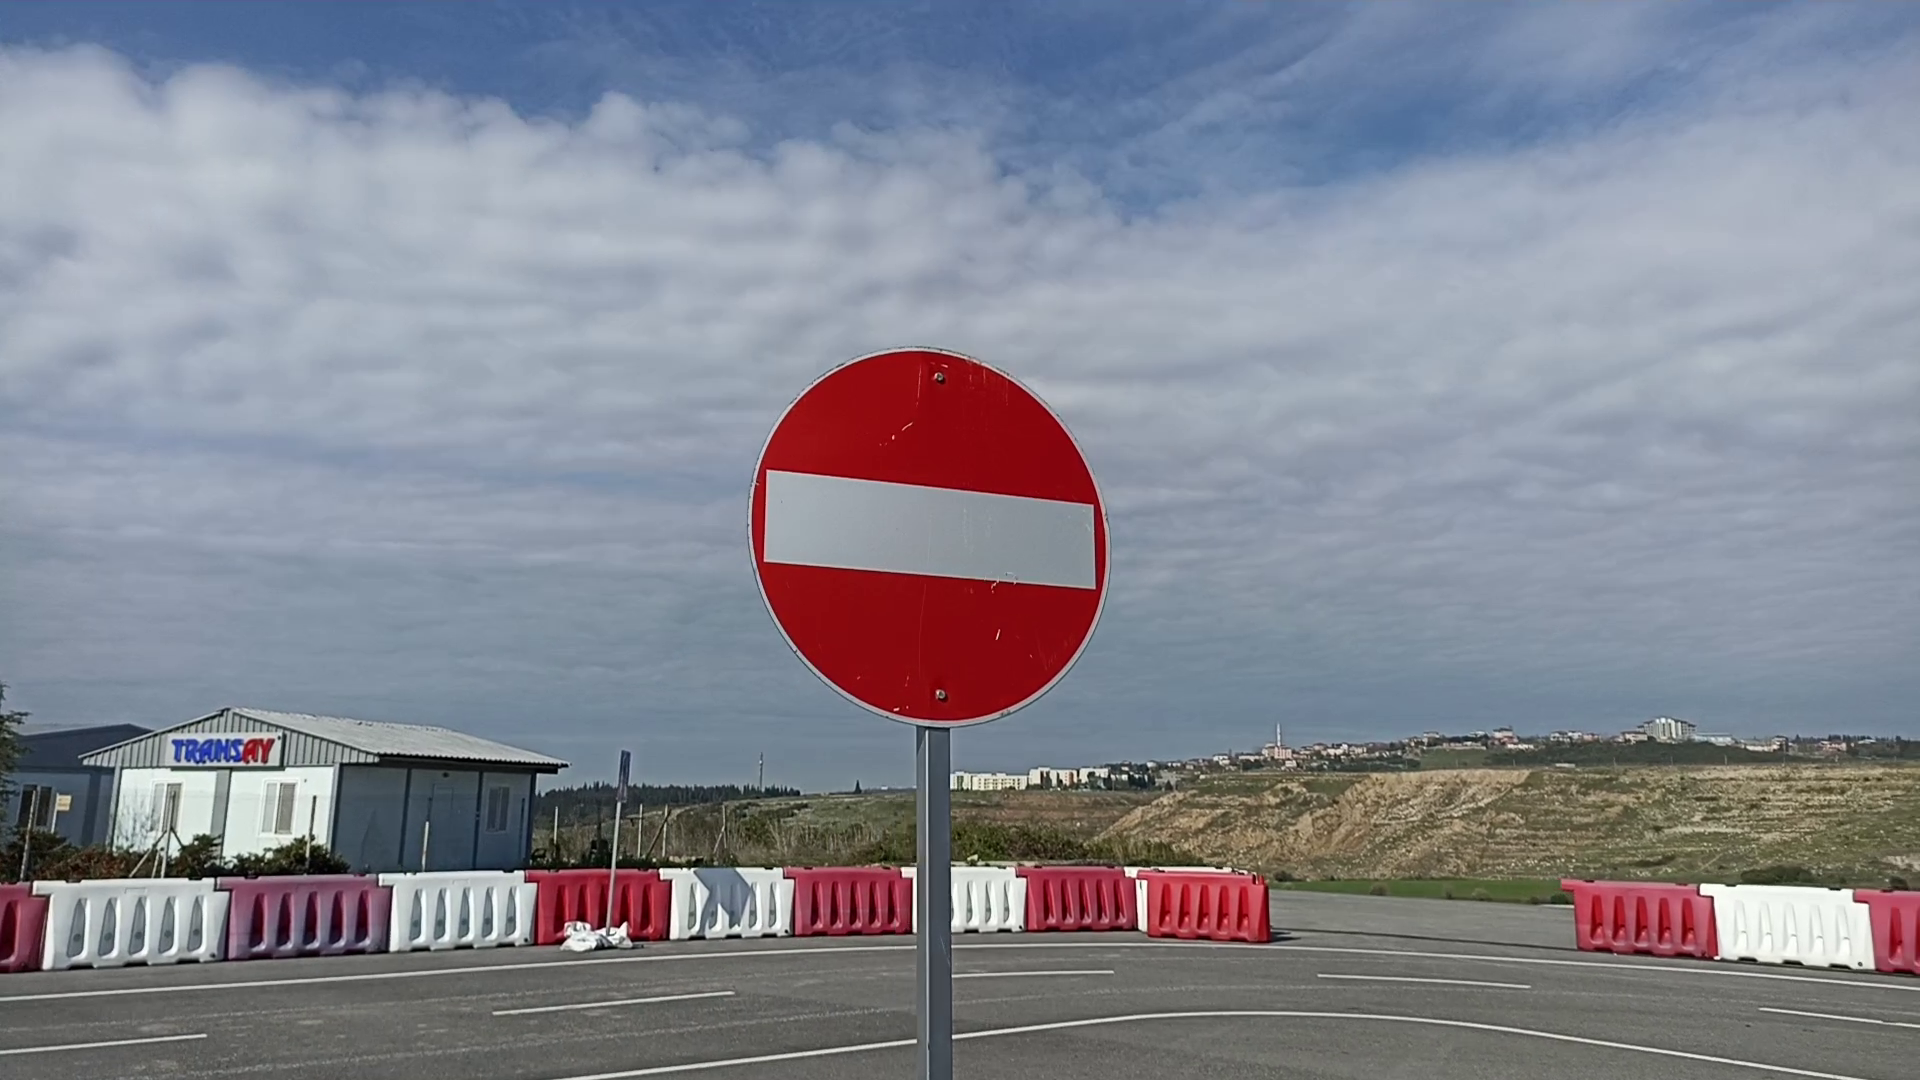noentryway: (742, 336, 1116, 732)
